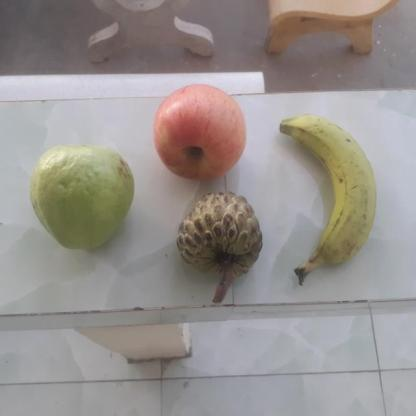annona: (172, 191, 260, 287)
apple: (147, 82, 251, 178)
banana: (278, 117, 375, 271)
guava: (28, 147, 130, 247)
